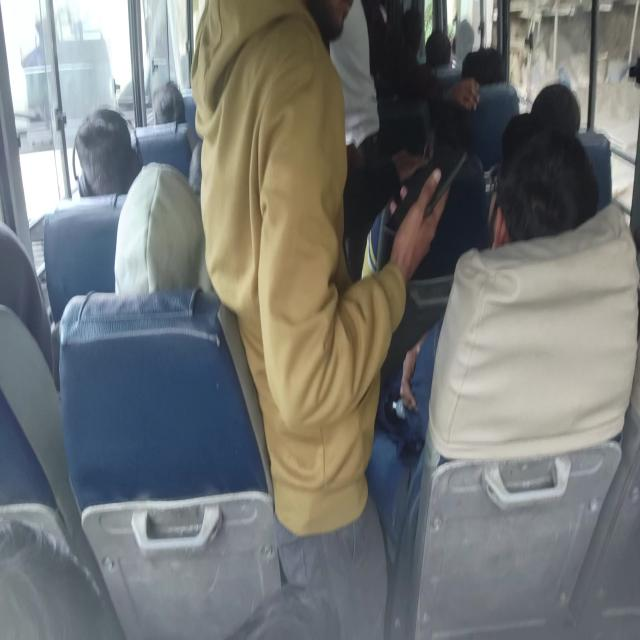person: (189, 0, 450, 638), (423, 124, 638, 467), (113, 160, 215, 296), (488, 126, 599, 248), (72, 106, 142, 198), (530, 82, 580, 136), (151, 80, 186, 125)
